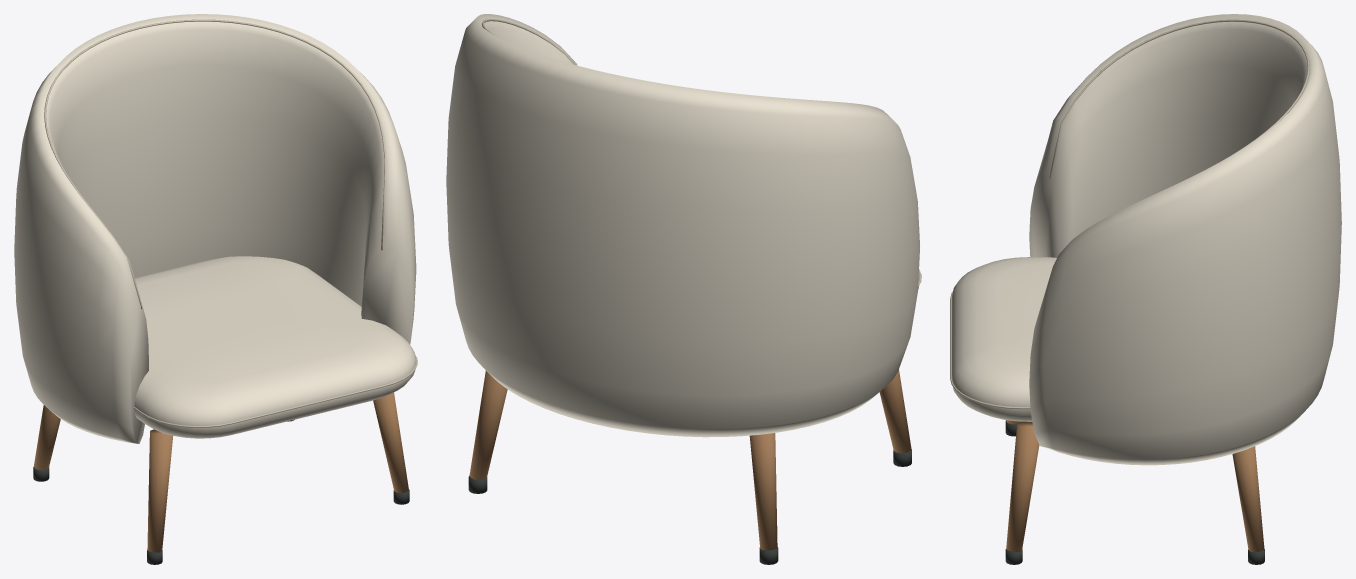
The model's file is furniture-lounge.glb.
3 views of the same model, side by side, from view 1: azimuth 30°, elevation 25°; view 2: azimuth 150°, elevation 25°; view 3: azimuth 270°, elevation 25° (orthographic). The views are drawn at different scales.
Parts seen in each view (by area): view 1: lounge_chair__studio_fabric_ivory, lounge_chair__studio_oak, lounge_chair__studio_fabric_ivory_seam, lounge_chair__studio_charcoal_frame; view 2: lounge_chair__studio_fabric_ivory, lounge_chair__studio_oak, lounge_chair__studio_charcoal_frame; view 3: lounge_chair__studio_fabric_ivory, lounge_chair__studio_oak, lounge_chair__studio_fabric_ivory_seam, lounge_chair__studio_charcoal_frame.
Part boxes in pixels (x1,y1,x2,y2): lounge_chair__studio_fabric_ivory: [14, 14, 416, 443]; lounge_chair__studio_oak: [34, 392, 408, 552]; lounge_chair__studio_fabric_ivory_seam: [44, 19, 417, 427]; lounge_chair__studio_charcoal_frame: [33, 419, 409, 564]; lounge_chair__studio_fabric_ivory: [446, 14, 919, 437]; lounge_chair__studio_oak: [469, 370, 911, 550]; lounge_chair__studio_charcoal_frame: [468, 449, 911, 564]; lounge_chair__studio_fabric_ivory: [951, 14, 1341, 465]; lounge_chair__studio_oak: [1006, 420, 1264, 552]; lounge_chair__studio_fabric_ivory_seam: [950, 19, 1309, 409]; lounge_chair__studio_charcoal_frame: [1005, 420, 1264, 564].
Size of the model in its own units: 1.2 by 1.3 by 1.06.
